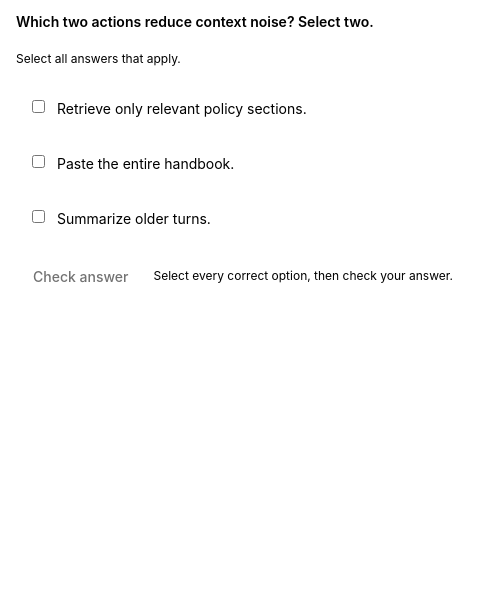
Test: multiple-response knowledge check › uses checkboxes and scores the selected set, not just one option
Click the checkbox labelled "Retrieve only relevant policy sections.".
click(38, 106)  # box x1=32 y1=100 x2=45 y2=113
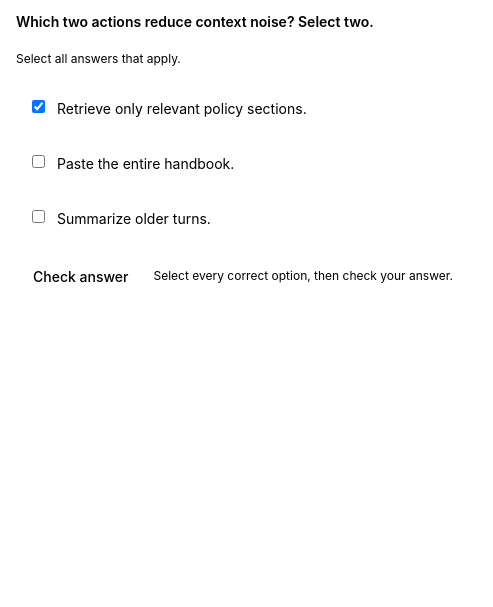
Click the button "Check answer".
click(81, 276)  # box x1=16 y1=258 x2=146 y2=294
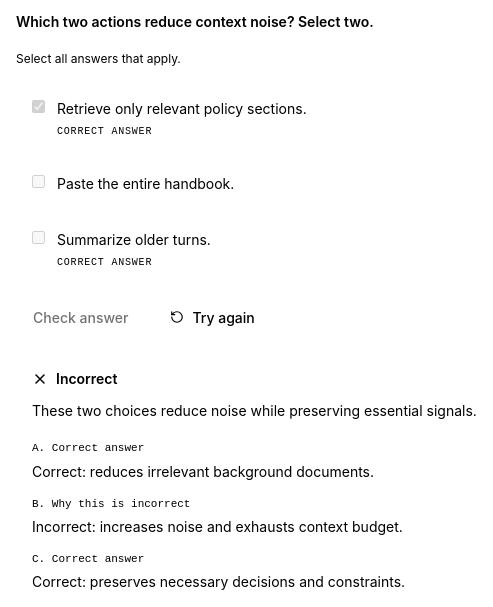
Result: the message shows "Incorrect" at x1=56 y1=370 x2=118 y2=387
Click the button "Try again".
click(213, 317)  # box x1=154 y1=299 x2=272 y2=335
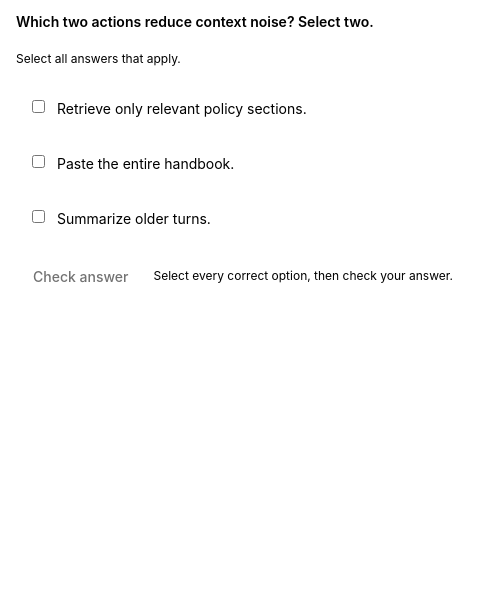
Click the checkbox labelled "Retrieve only relevant policy sections.".
click(38, 106)  # box x1=32 y1=100 x2=45 y2=113
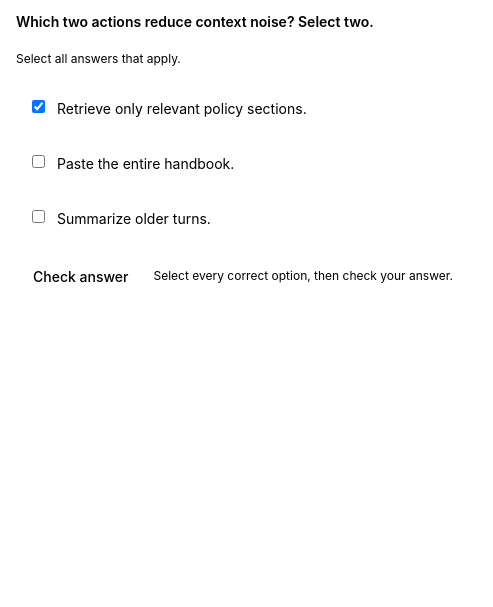
Click the checkbox labelled "Summarize older turns.".
click(38, 217)  # box x1=32 y1=210 x2=45 y2=223
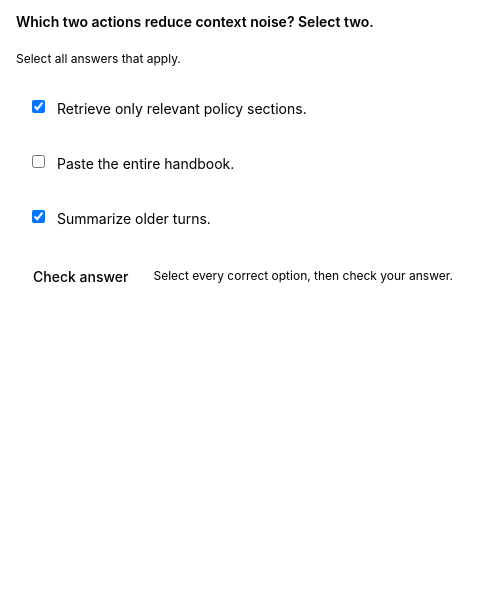
Click the button "Check answer".
click(81, 276)  # box x1=16 y1=258 x2=146 y2=294
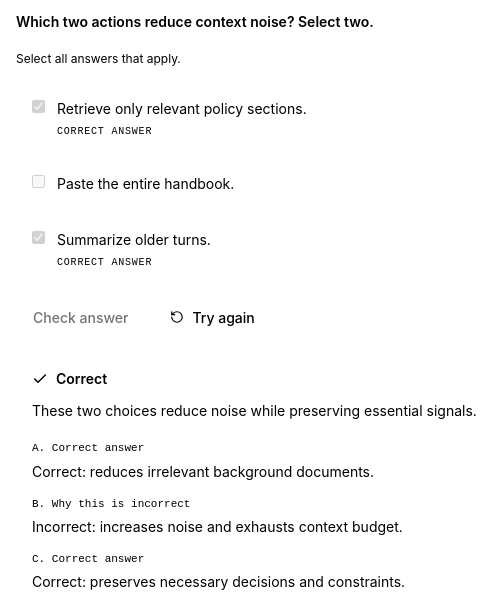
Result: the message shows "Correct" at x1=56 y1=370 x2=107 y2=387
Result: the text "Correct answer" is shown 4 times at x1=57 y1=126 x2=152 y2=137; x1=57 y1=257 x2=152 y2=268; x1=32 y1=442 x2=144 y2=454; x1=32 y1=553 x2=144 y2=565
